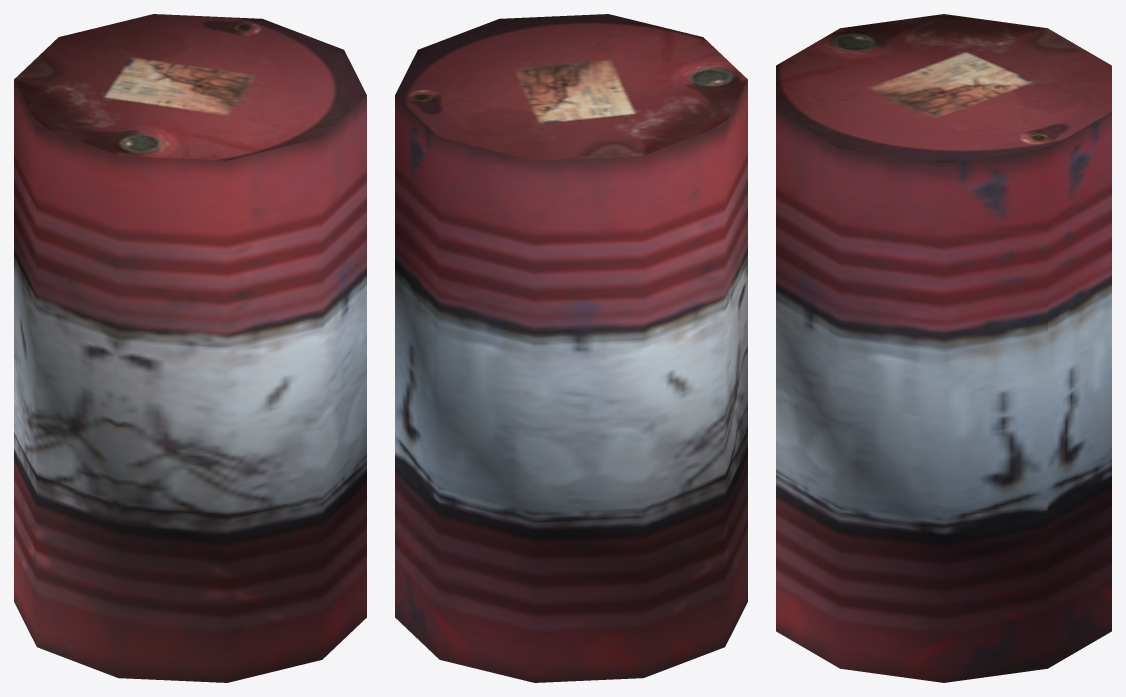
The model's file is barril.fbx.
3 views of the same model, side by side, from view 1: azimuth 30°, elevation 25°; view 2: azimuth 150°, elevation 25°; view 3: azimuth 270°, elevation 25° (orthographic).
Visible parts, largest first — view 1: BarrilPlein; view 2: BarrilPlein; view 3: BarrilPlein.
Boxes of the visible parts, bbox=[...] form: BarrilPlein: bbox=[14, 14, 366, 682]; BarrilPlein: bbox=[395, 14, 747, 682]; BarrilPlein: bbox=[776, 14, 1111, 682].
Bounding box in the file's own units: 1.07 × 1.73 × 1.01.
Materials: 1 (1 with a texture image).
